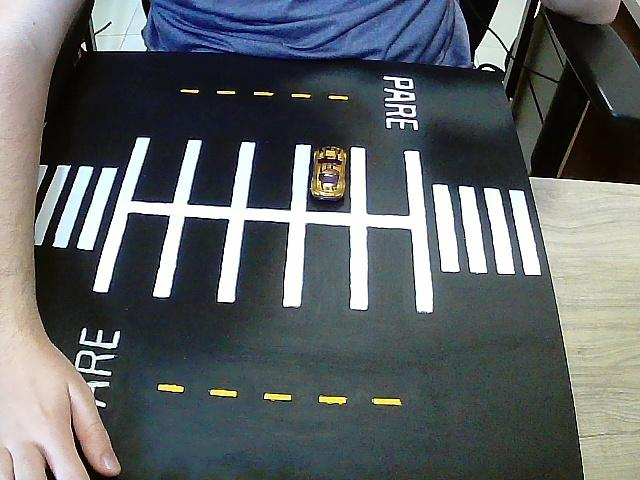Carro: (310, 146, 348, 200)
